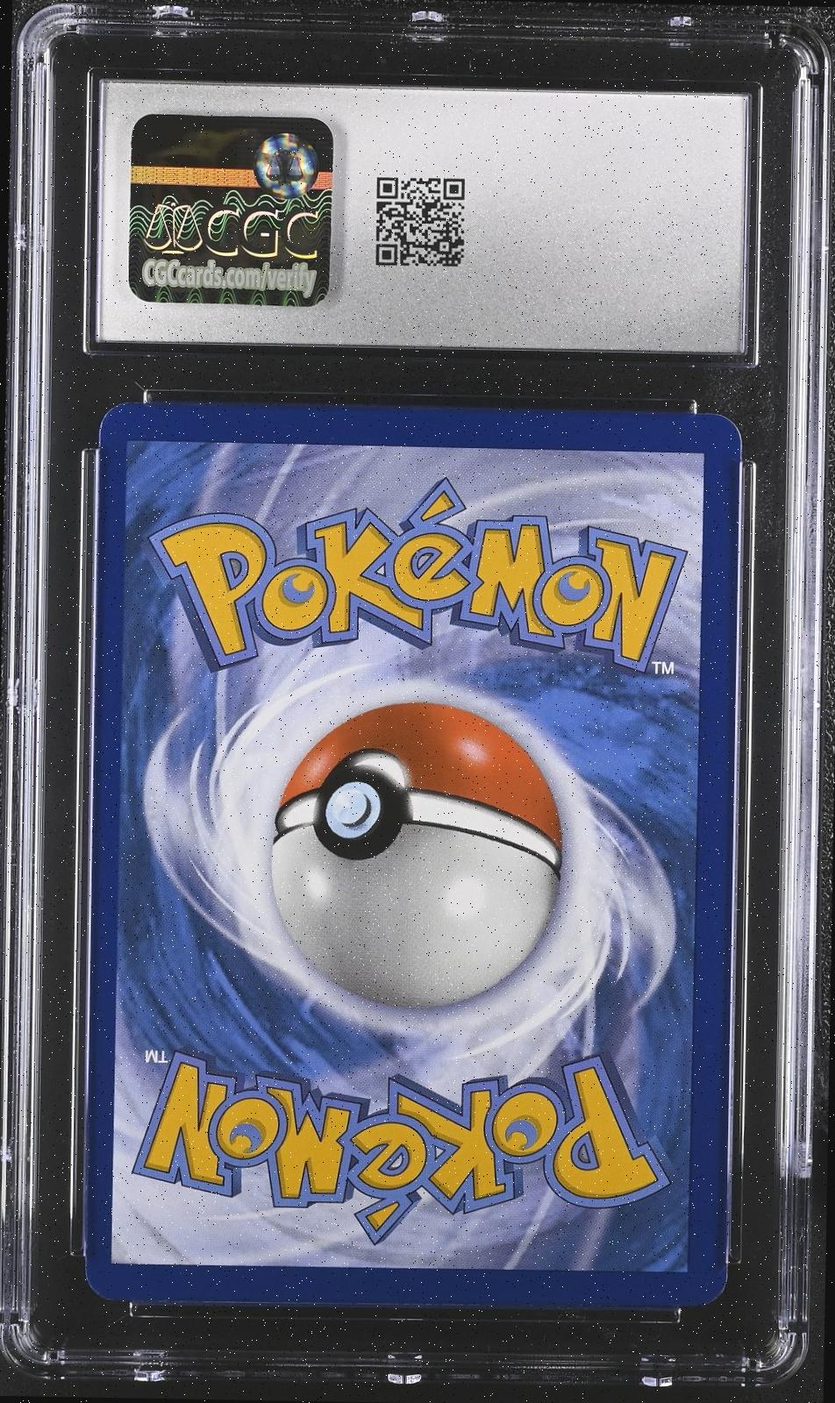card-2UtV: (84, 401, 742, 1307)
